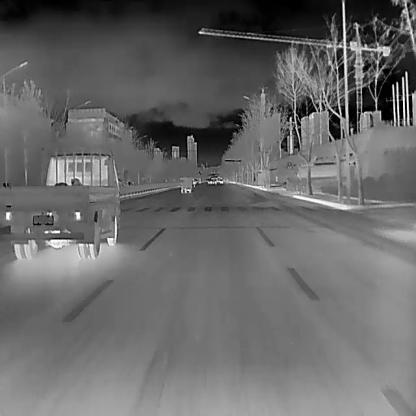car: (0, 149, 125, 258), (296, 151, 358, 193), (179, 176, 192, 193), (206, 173, 216, 185), (217, 175, 223, 185), (191, 178, 198, 185), (127, 178, 131, 184)
